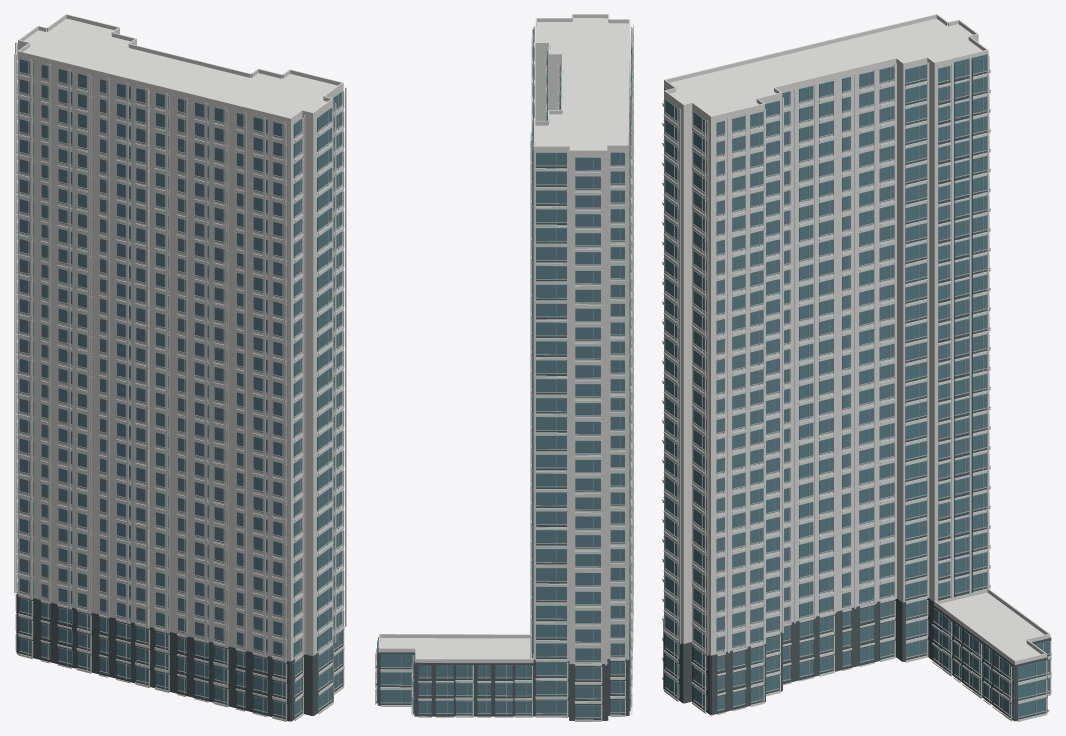
File: bespoke-acro-riverpark-105.glb
3 views of the same model, side by side, from view 1: azimuth 30°, elevation 25°; view 2: azimuth 150°, elevation 25°; view 3: azimuth 270°, elevation 25° (orthographic). The views are drawn at different scales.
Visible parts, largest first — view 1: 105_R00_body, 105_R00_glass, 105_R02_body, 105_R02_glass, 105_R00_white, 105_R02_white, 105_R00_frame, 105_R02_frame, 105_R00_dark, 105_R02_dark; view 2: 105_R02_glass, 105_R02_body, 105_R02_white, 105_R00_body, 105_R02_frame, 105_R01_glass, 105_R02_dark, 105_R01_dark, 105_R01_white, 105_R01_body, 105_R00_white, 105_R01_frame; view 3: 105_R00_glass, 105_R02_glass, 105_R00_body, 105_R02_body, 105_R00_white, 105_R02_white, 105_R00_frame, 105_R02_frame, 105_R02_dark, 105_R00_dark, 105_R01_glass, 105_R01_body (+3 smaller).
Part boxes in pixels (x1=…): 105_R00_body: x1=154, y1=63, x2=343, y2=715; 105_R00_glass: x1=156, y1=92, x2=342, y2=717; 105_R02_body: x1=17, y1=18, x2=189, y2=627; 105_R02_glass: x1=19, y1=59, x2=150, y2=683; 105_R00_white: x1=154, y1=59, x2=346, y2=721; 105_R02_white: x1=14, y1=14, x2=190, y2=687; 105_R00_frame: x1=155, y1=94, x2=342, y2=718; 105_R02_frame: x1=17, y1=61, x2=148, y2=684; 105_R00_dark: x1=153, y1=626, x2=344, y2=721; 105_R02_dark: x1=16, y1=583, x2=153, y2=687; 105_R02_glass: x1=532, y1=90, x2=631, y2=718; 105_R02_body: x1=533, y1=85, x2=629, y2=663; 105_R02_white: x1=530, y1=82, x2=632, y2=721; 105_R00_body: x1=535, y1=18, x2=630, y2=143; 105_R02_frame: x1=531, y1=91, x2=631, y2=719; 105_R01_glass: x1=377, y1=640, x2=532, y2=714; 105_R02_dark: x1=531, y1=165, x2=629, y2=720; 105_R01_dark: x1=376, y1=637, x2=533, y2=716; 105_R01_white: x1=375, y1=634, x2=533, y2=717; 105_R01_body: x1=380, y1=638, x2=533, y2=662; 105_R00_white: x1=531, y1=14, x2=633, y2=646; 105_R01_frame: x1=376, y1=648, x2=531, y2=715; 105_R00_glass: x1=664, y1=81, x2=833, y2=711; 105_R02_glass: x1=842, y1=54, x2=987, y2=667; 105_R00_body: x1=664, y1=51, x2=835, y2=655; 105_R02_body: x1=802, y1=18, x2=988, y2=661; 105_R00_white: x1=662, y1=47, x2=836, y2=714; 105_R02_white: x1=801, y1=14, x2=990, y2=670; 105_R00_frame: x1=663, y1=81, x2=833, y2=710; 105_R02_frame: x1=842, y1=58, x2=987, y2=666; 105_R02_dark: x1=836, y1=71, x2=987, y2=671; 105_R00_dark: x1=663, y1=613, x2=835, y2=715; 105_R01_glass: x1=933, y1=608, x2=1049, y2=718; 105_R01_body: x1=940, y1=592, x2=1044, y2=720.
Size of the model in its own units: 41.71 by 105 by 61.99.
